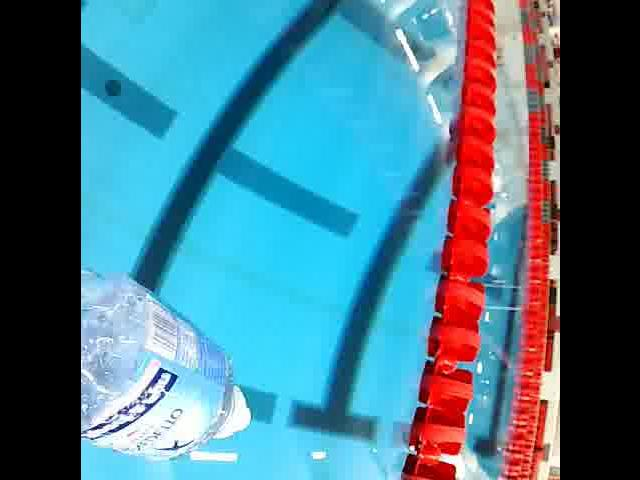Bottle: (80, 261, 255, 462)
